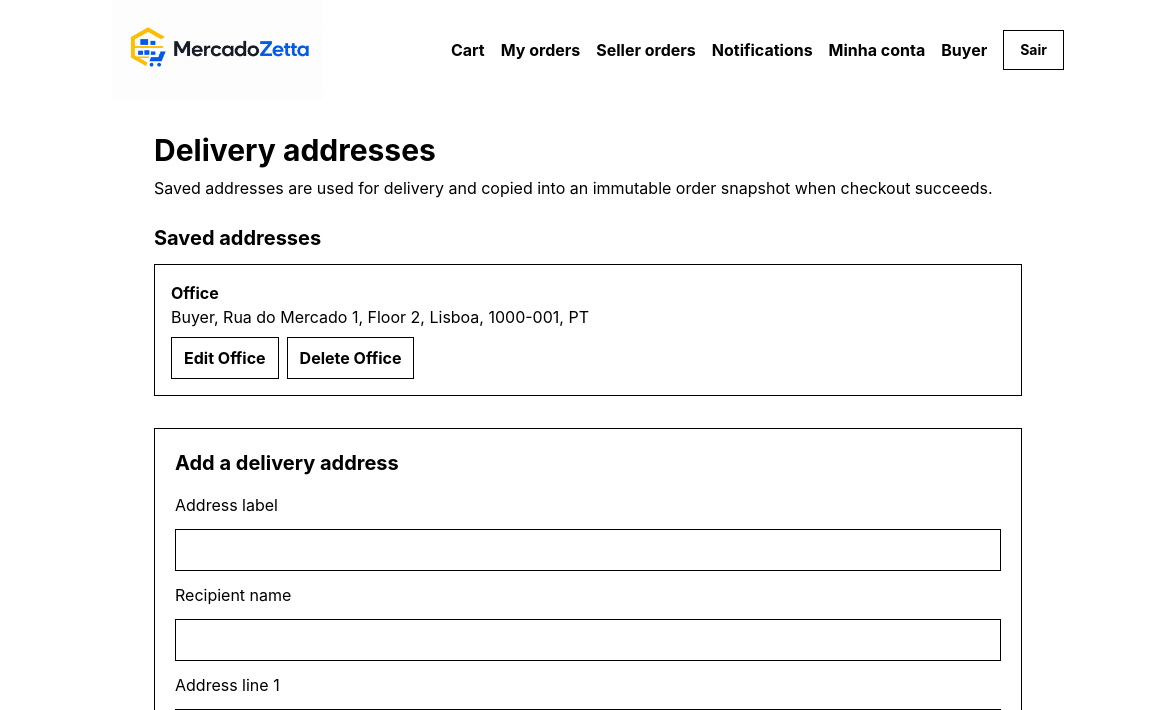
DeliveryAddresses › cancels editing and deletes a non-default address
Expected: the text "Office" is shown, left=171, top=283, right=219, bottom=303
Expected: the text "Buyer, Rua do Mercado 1, Floor 2, Lisboa, 1000-001, PT" is shown, left=171, top=307, right=589, bottom=327
Click the button "Edit Office" at (225, 358), box left=171, top=337, right=279, bottom=379
(page scrolled)
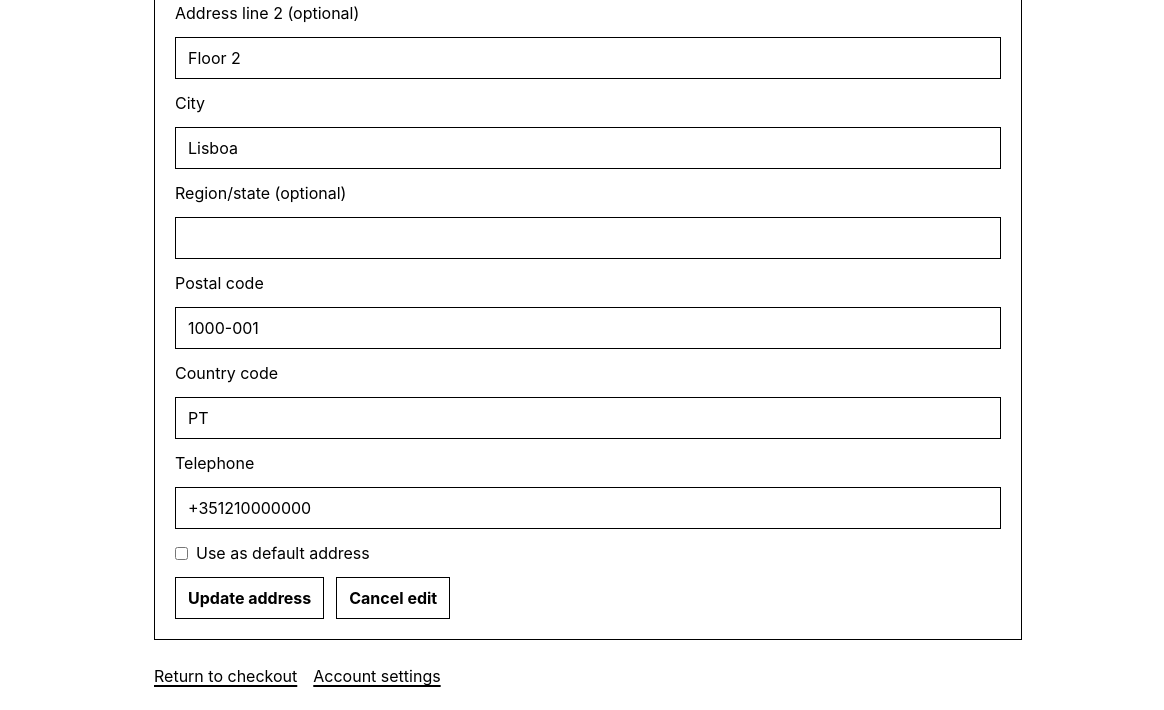
Click the button "Cancel edit" at (393, 598), box left=336, top=577, right=450, bottom=619
(page scrolled)
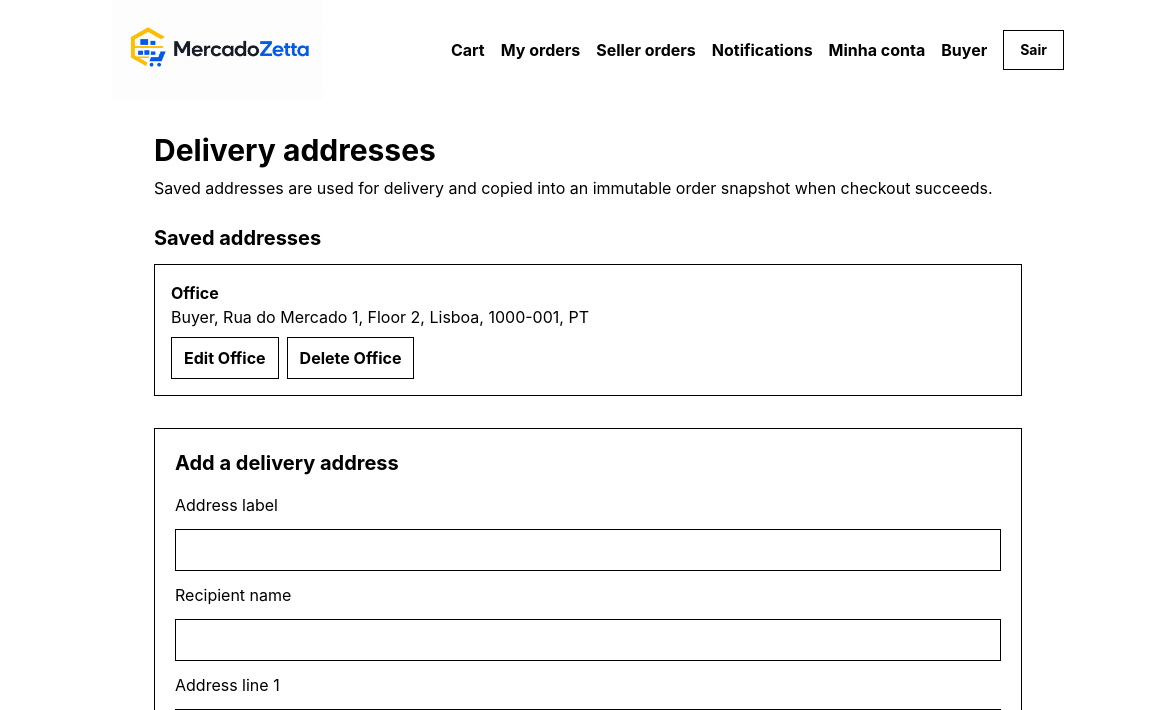
Now the heading "Add a delivery address" is shown, box left=175, top=451, right=399, bottom=475
Click the button "Delete Office" at (350, 358), box left=287, top=337, right=414, bottom=379
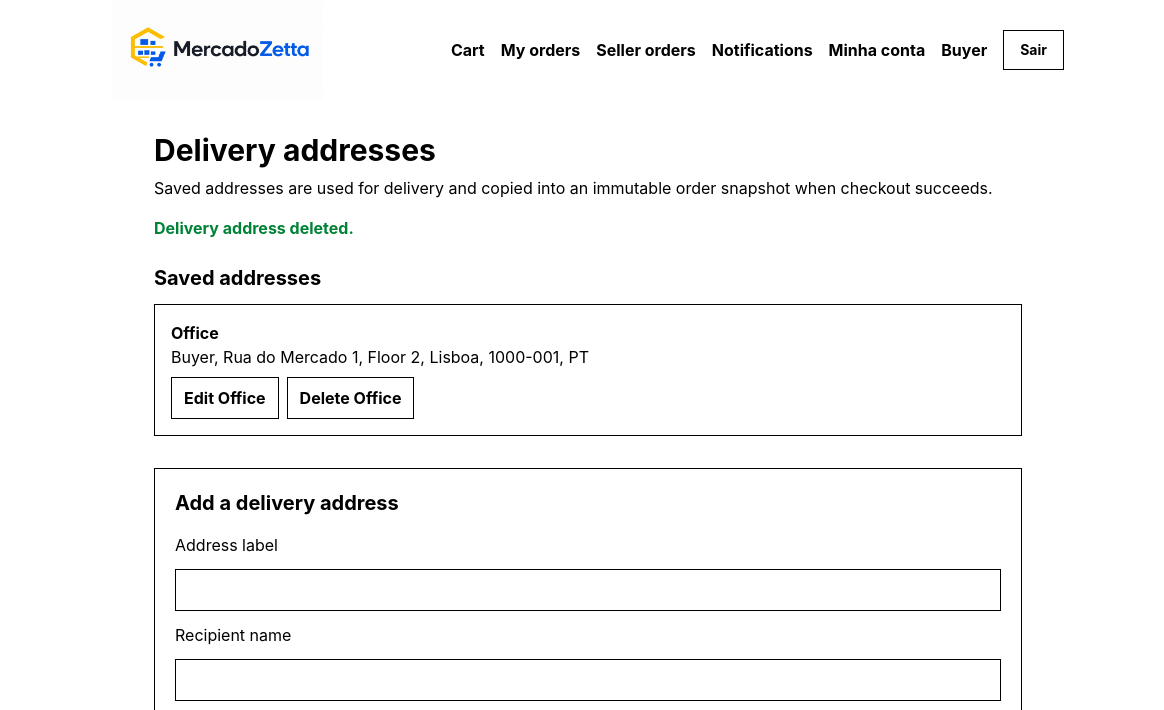
Now the message reads "Delivery address deleted.", box left=154, top=218, right=354, bottom=238
